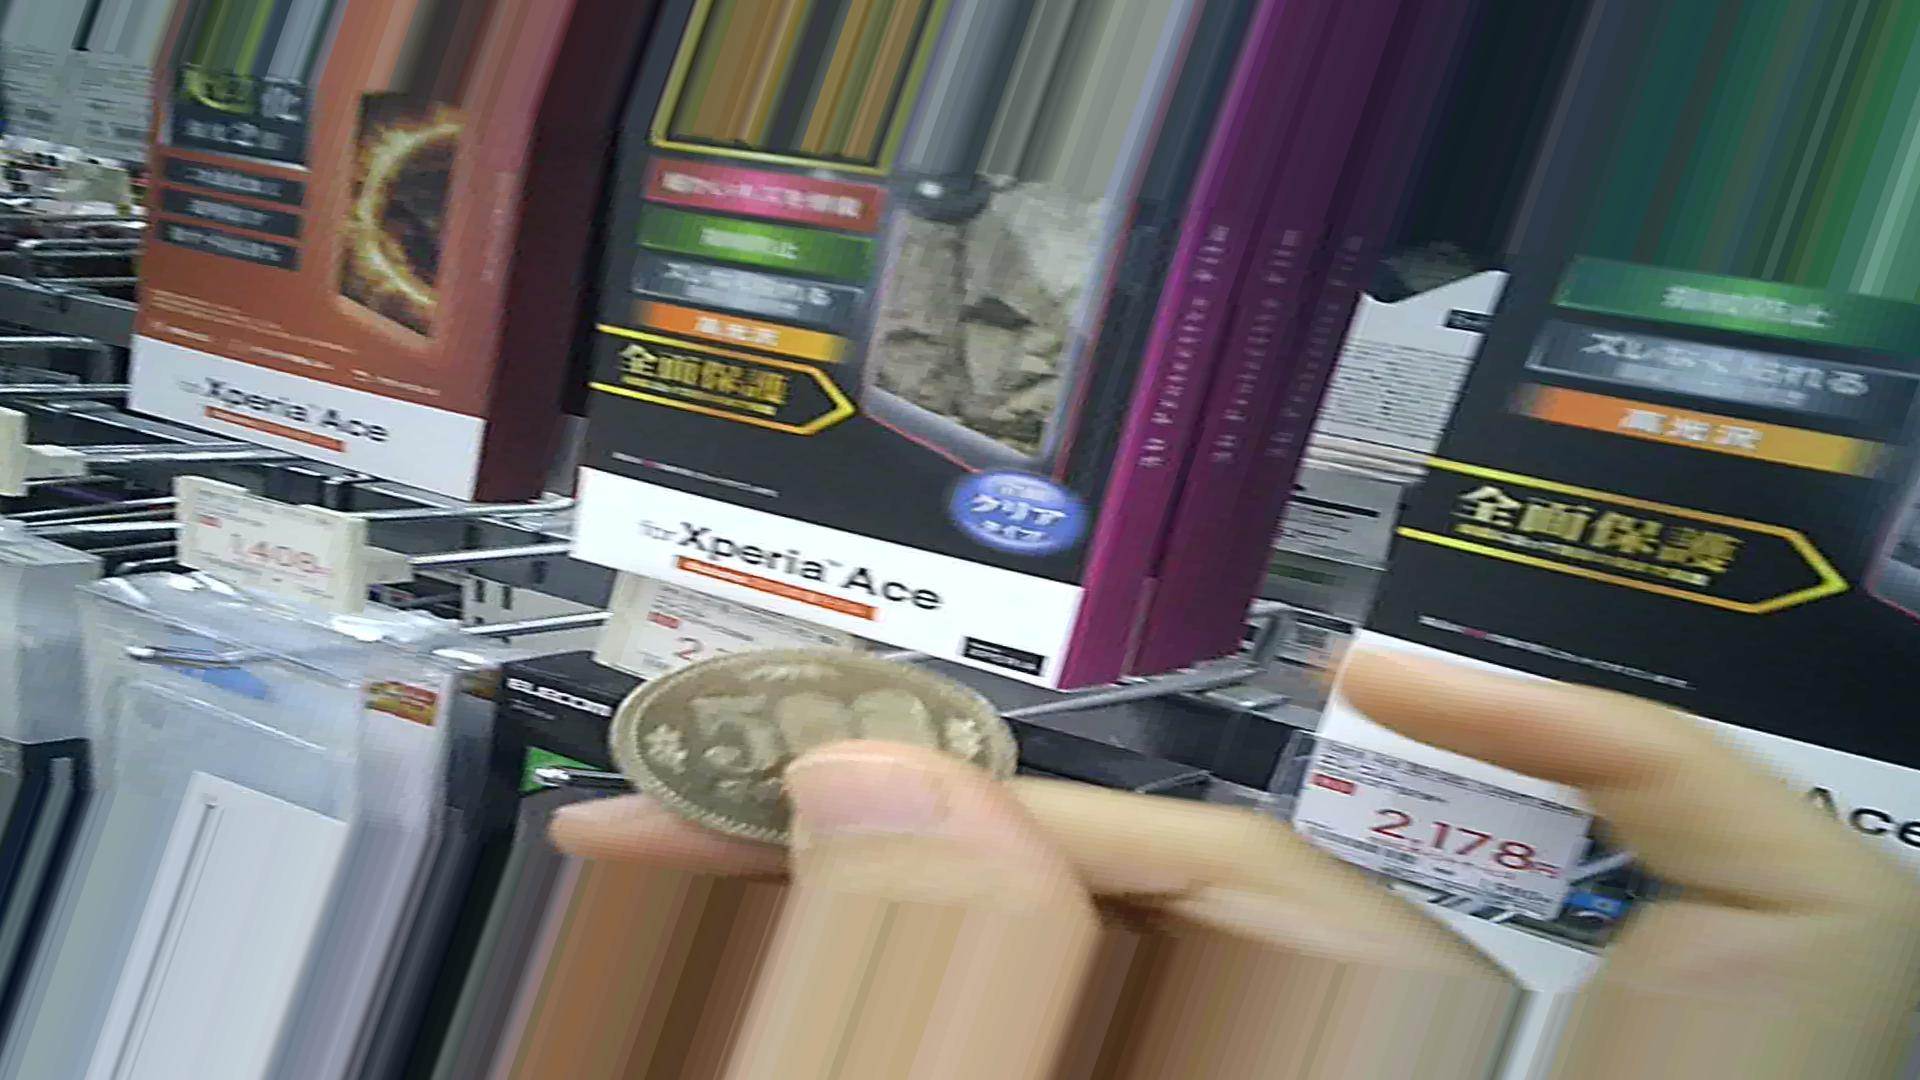500 Yen: (597, 642, 1015, 848)
